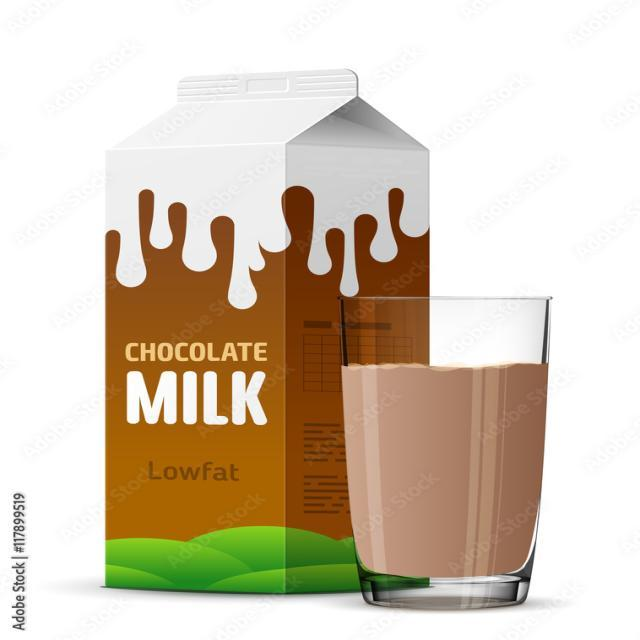Carton: (95, 48, 446, 606)
